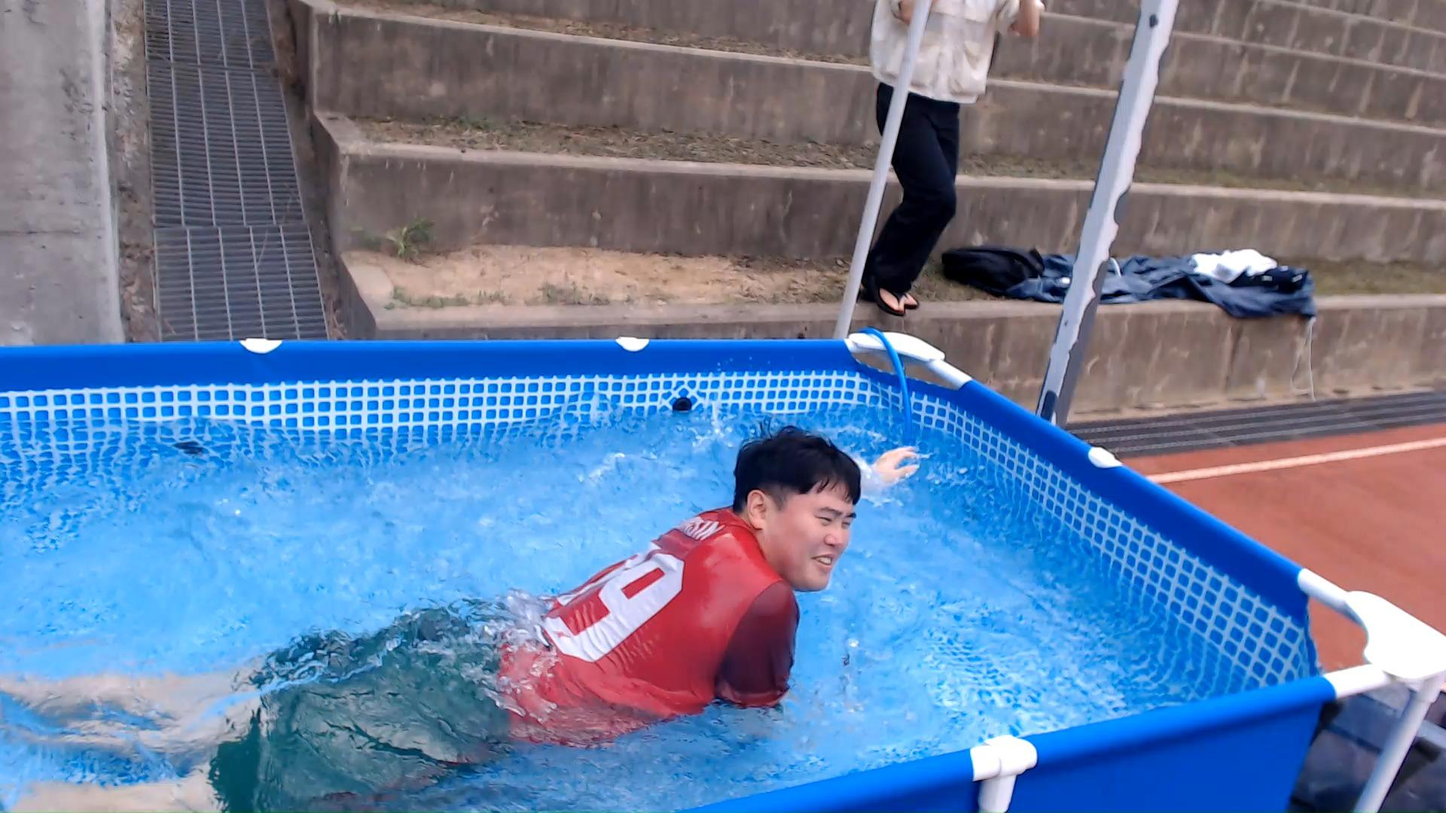Swimming: (0, 389, 997, 813)
